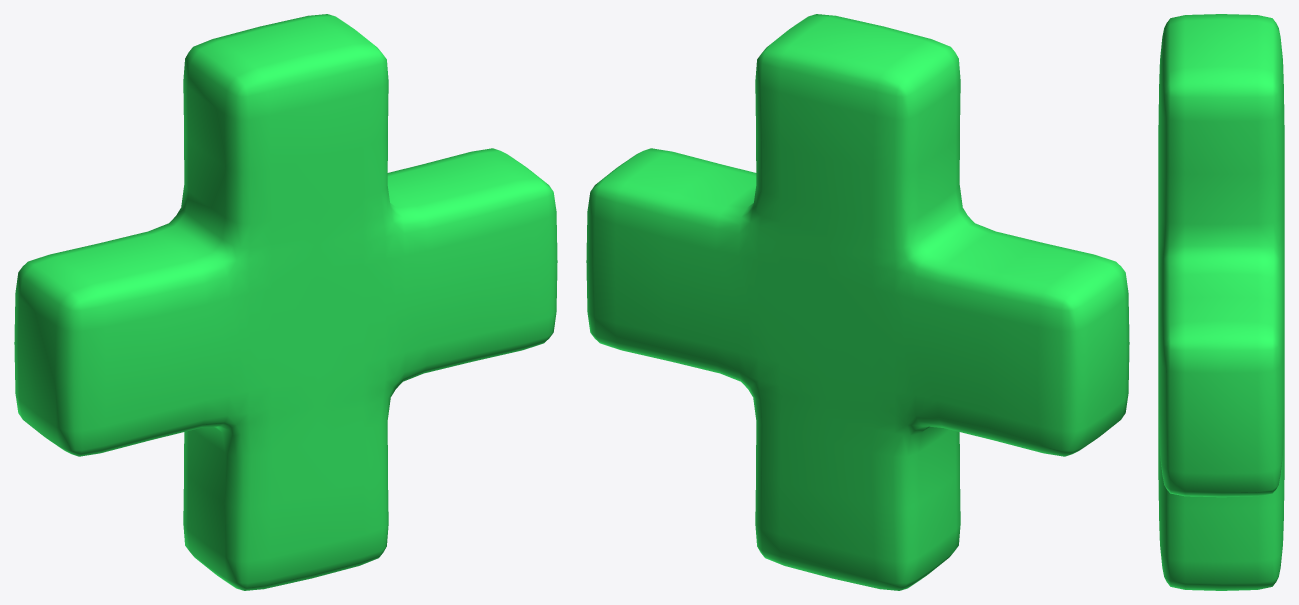
Rendered from Heal.fbx.
The picture shows the model from 3 angles, left to right: view 1: azimuth 30°, elevation 25°; view 2: azimuth 150°, elevation 25°; view 3: azimuth 270°, elevation 25°; orthographic projection.
Parts seen in each view (by area): view 1: Heal; view 2: Heal; view 3: Heal.
Part boxes in pixels (bbox=[...]): Heal: bbox=[14, 14, 557, 590]; Heal: bbox=[586, 14, 1129, 590]; Heal: bbox=[1158, 14, 1284, 590].
Bounding box in the file's own units: 60 × 60 × 13.17.
